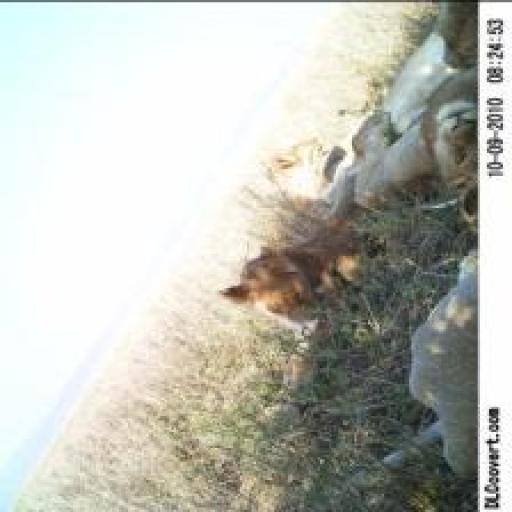lion: (217, 215, 392, 374), (212, 126, 372, 204)
